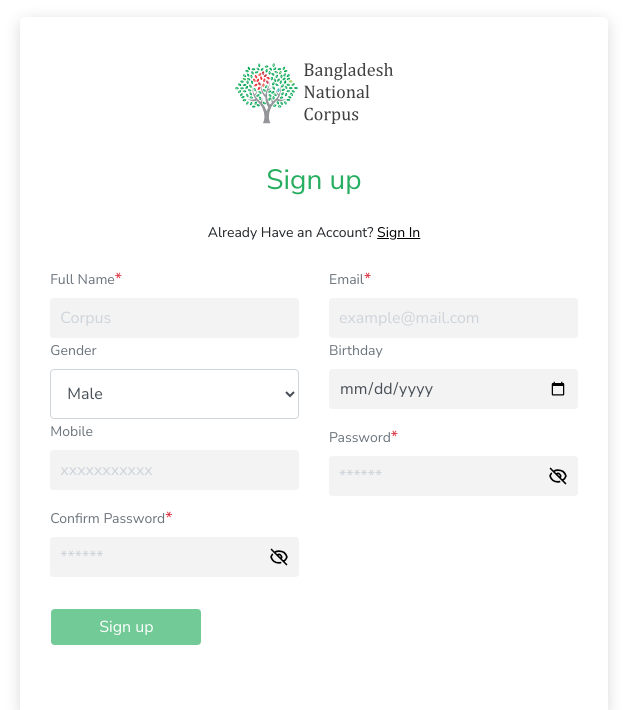
Scenario: Testing signup Form › Signup validation testing › signup email validation error if wrong email passed
The image size is (629, 710).
Type "akibgmail.com" into the field labelled "Email" at (453, 318), box [329,298,578,338]
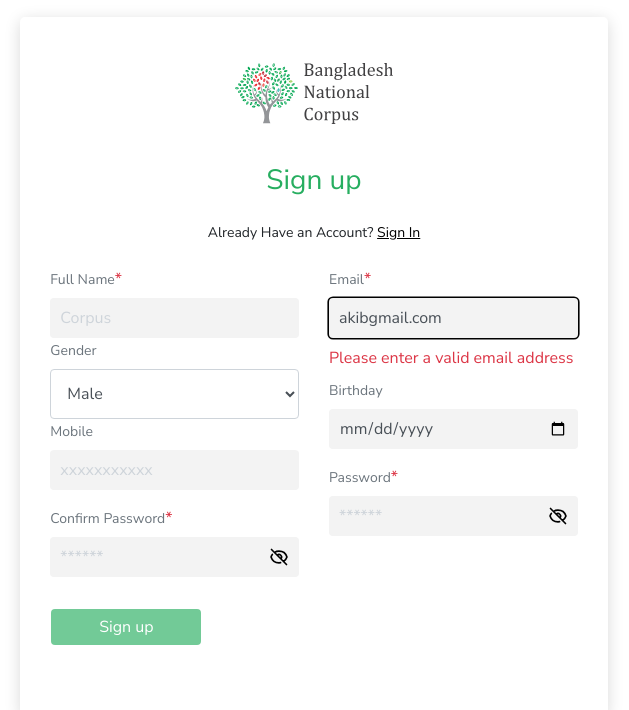
Result: the text "Please enter a valid email address" is shown at [329,347,574,369]
